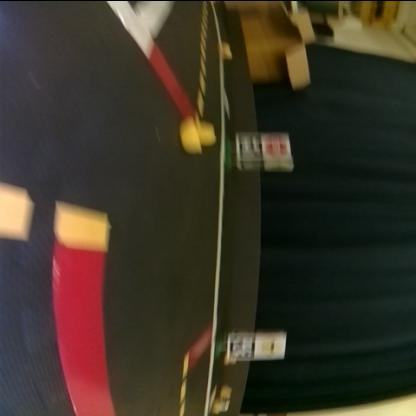Duckie: (181, 118, 217, 150), (221, 42, 231, 57)
Intersection sign: (256, 330, 286, 358)
QR code: (226, 331, 256, 359), (238, 135, 262, 158)
Stop sign: (263, 134, 290, 154)
